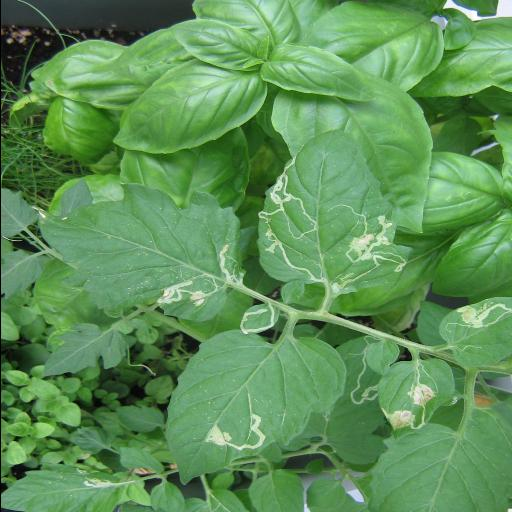Leaf Miner: (164, 328, 348, 488), (256, 130, 406, 296), (38, 202, 242, 320), (378, 358, 458, 432), (438, 296, 512, 372)
